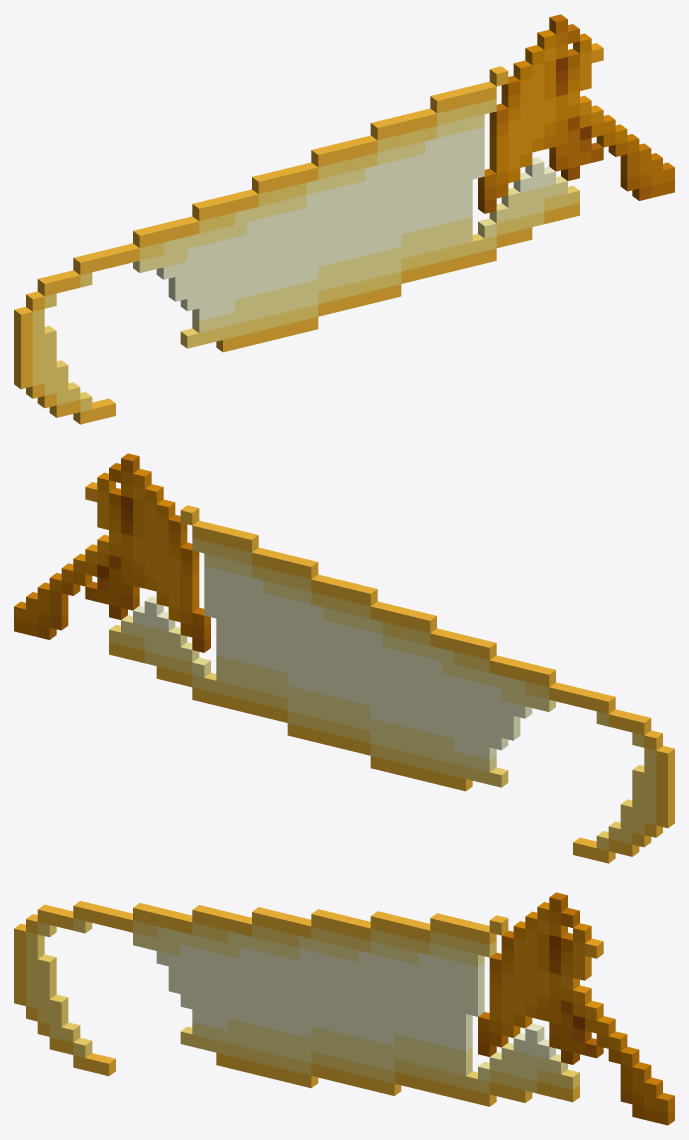
The model's file is Fight_010_2_07_fx.obj.
3 renders of one model, top to bottom at view 1: azimuth 30°, elevation 25°; view 2: azimuth 150°, elevation 25°; view 3: azimuth 330°, elevation 25°, orthographic.
Bounding box in the file's own units: 5.5 × 2.3 × 0.1.
Materials: 1 (1 with a texture image).
